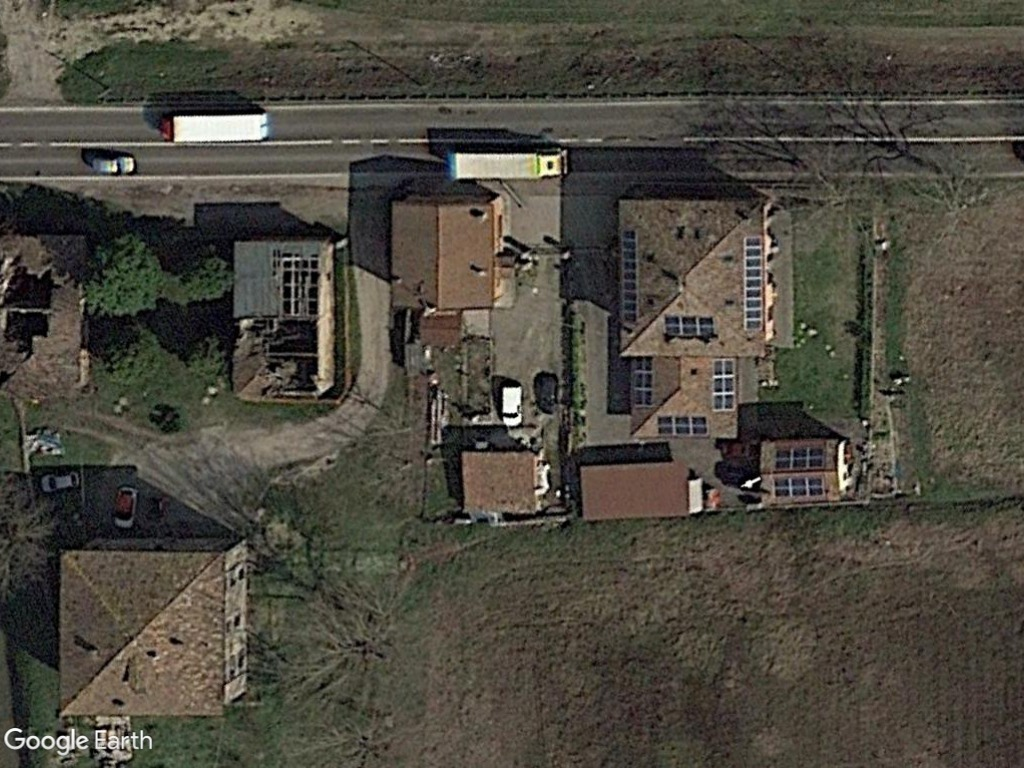car: (88, 151, 139, 180), (39, 467, 84, 497), (110, 483, 138, 531)
truck: (444, 144, 573, 185), (155, 108, 275, 146)
van: (496, 379, 526, 429)
